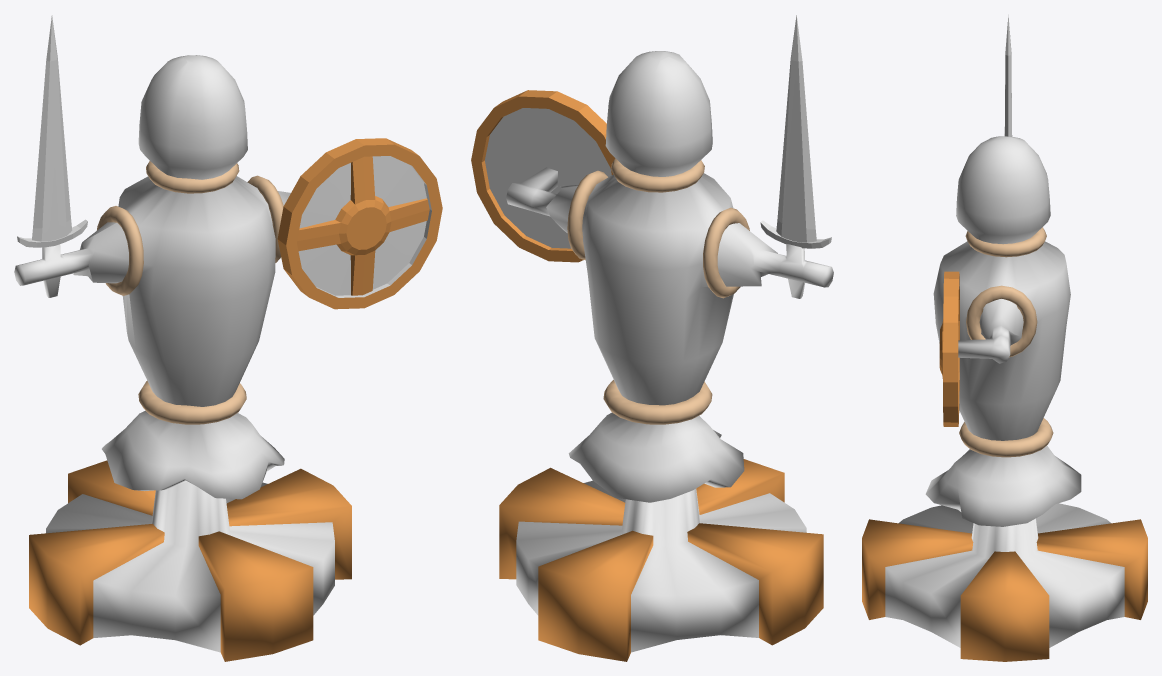
The model's file is TrainingDummy1.fbx.
3 renders of one model, left to right at view 1: azimuth 30°, elevation 25°; view 2: azimuth 150°, elevation 25°; view 3: azimuth 270°, elevation 25°, orthographic. The views are drawn at different scales.
Parts seen in each view (by area): view 1: Torus.005; view 2: Torus.005; view 3: Torus.005.
Boxes of the visible parts, left/top/right/bottom form: Torus.005: left=14, top=15, right=442, bottom=661; Torus.005: left=471, top=15, right=833, bottom=661; Torus.005: left=862, top=14, right=1147, bottom=661.
Size of the model in its own units: 158 by 238 by 117.
